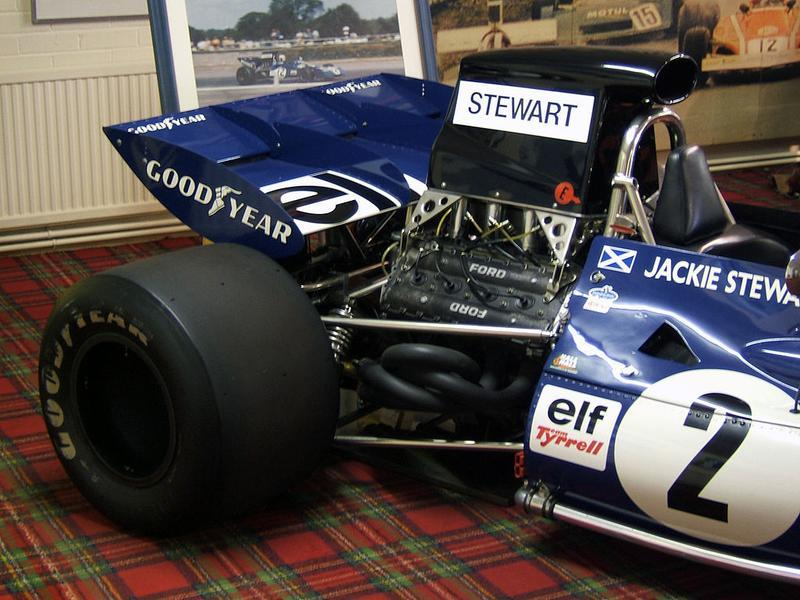racecar: (59, 34, 796, 583)
